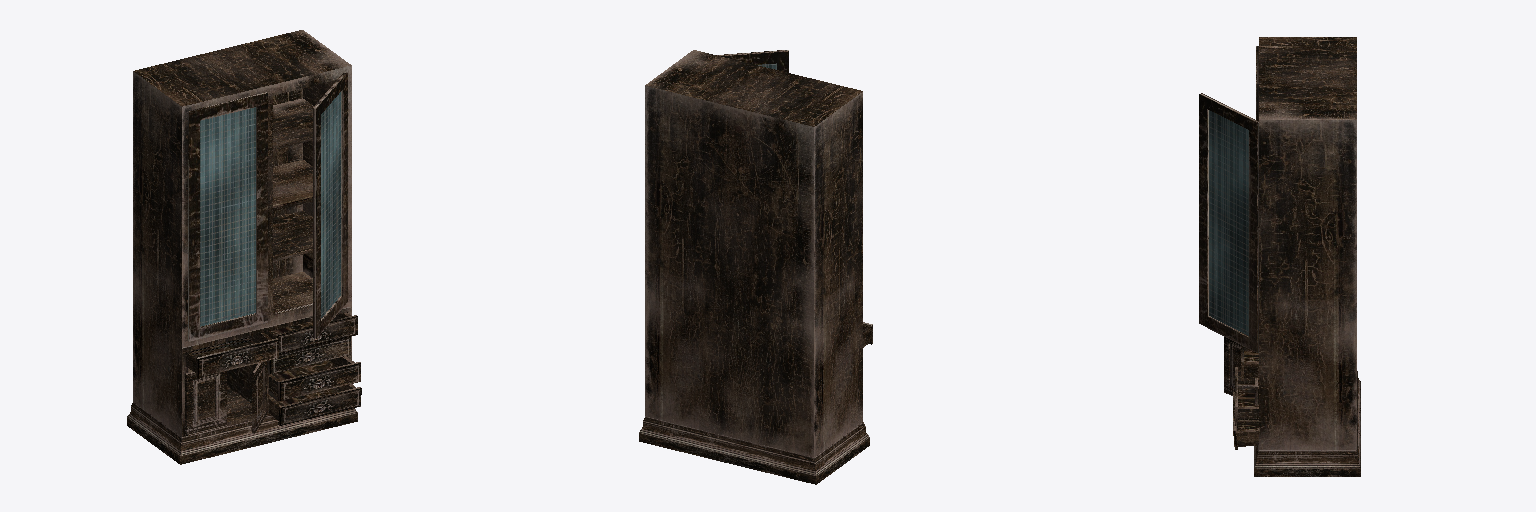
3 renders of one model, left to right at view 1: azimuth 30°, elevation 25°; view 2: azimuth 150°, elevation 25°; view 3: azimuth 270°, elevation 25°, orthographic.
Parts seen in each view (by area): view 1: Cabinet_Wood; view 2: Cabinet_Wood; view 3: Cabinet_Wood.
Part boxes in pixels (x1,y1,x2,y2): Cabinet_Wood: (127, 30, 361, 464); Cabinet_Wood: (639, 50, 872, 484); Cabinet_Wood: (1199, 37, 1360, 476).
Bounding box in the file's own units: 4.71 × 9 × 3.71.
2 materials, 2 textured.